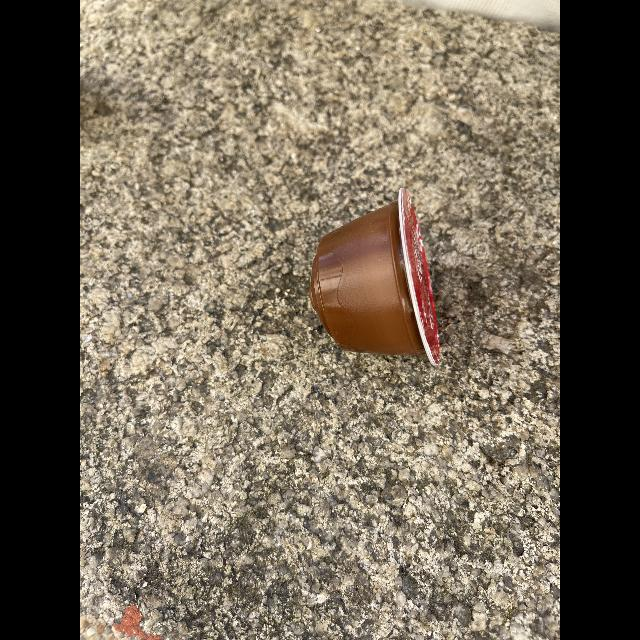intact_capsule: (299, 183, 463, 374)
